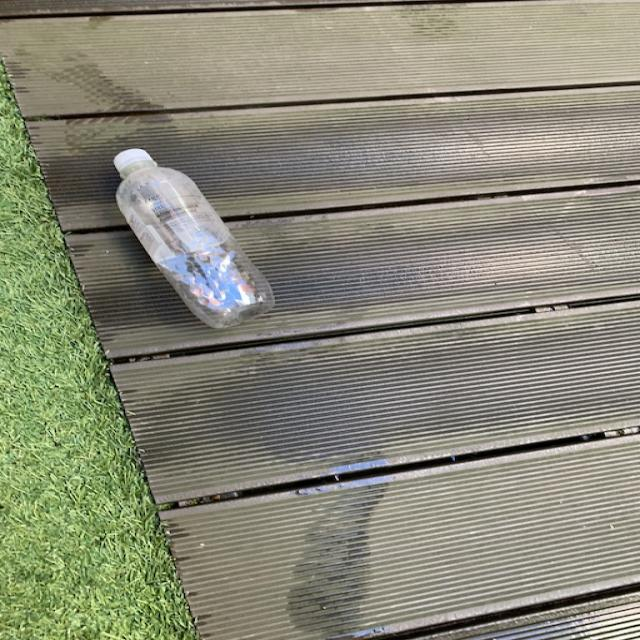Waste: (112, 150, 274, 327)
